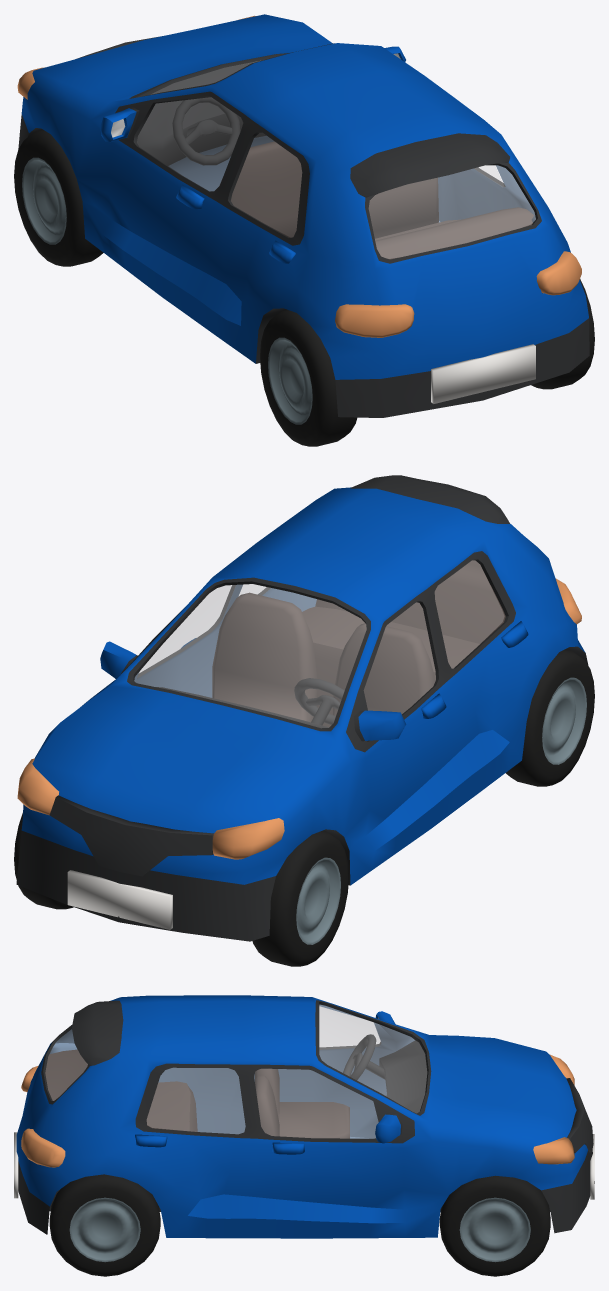
Rendered from car.glb.
The picture shows the model from 3 angles, top to bottom: view 1: azimuth 30°, elevation 25°; view 2: azimuth 150°, elevation 25°; view 3: azimuth 270°, elevation 25°; orthographic projection. The views are drawn at different scales.
Visible parts, largest first — view 1: Transport7; view 2: Transport7; view 3: Transport7.
Boxes of the visible parts, left/top/right/bottom form: Transport7: left=14, top=14, right=594, bottom=446; Transport7: left=14, top=475, right=594, bottom=966; Transport7: left=14, top=995, right=594, bottom=1276.
Size of the model in its own units: 1.18 by 0.9844 by 2.47.
Materials: 2 (2 with a texture image).
